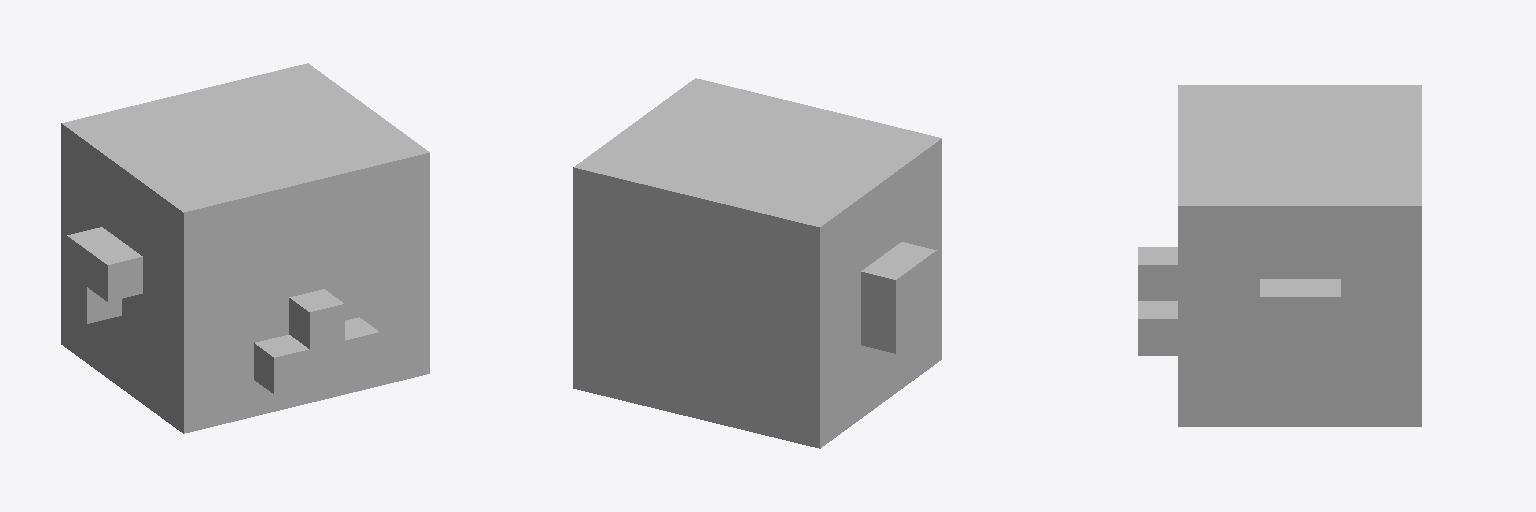
Rendered from head.obj.
The picture shows the model from 3 angles: view 1: azimuth 30°, elevation 25°; view 2: azimuth 150°, elevation 25°; view 3: azimuth 270°, elevation 25°; orthographic projection.
Visible parts, largest first — view 1: object 1; view 2: object 1; view 3: object 1.
Part boxes in pixels (x1,y1,x2,y2): object 1: (61, 63, 429, 433); object 1: (573, 78, 941, 448); object 1: (1138, 85, 1421, 426).
Bounding box in the file's own units: 0.9 × 0.6 × 0.7.